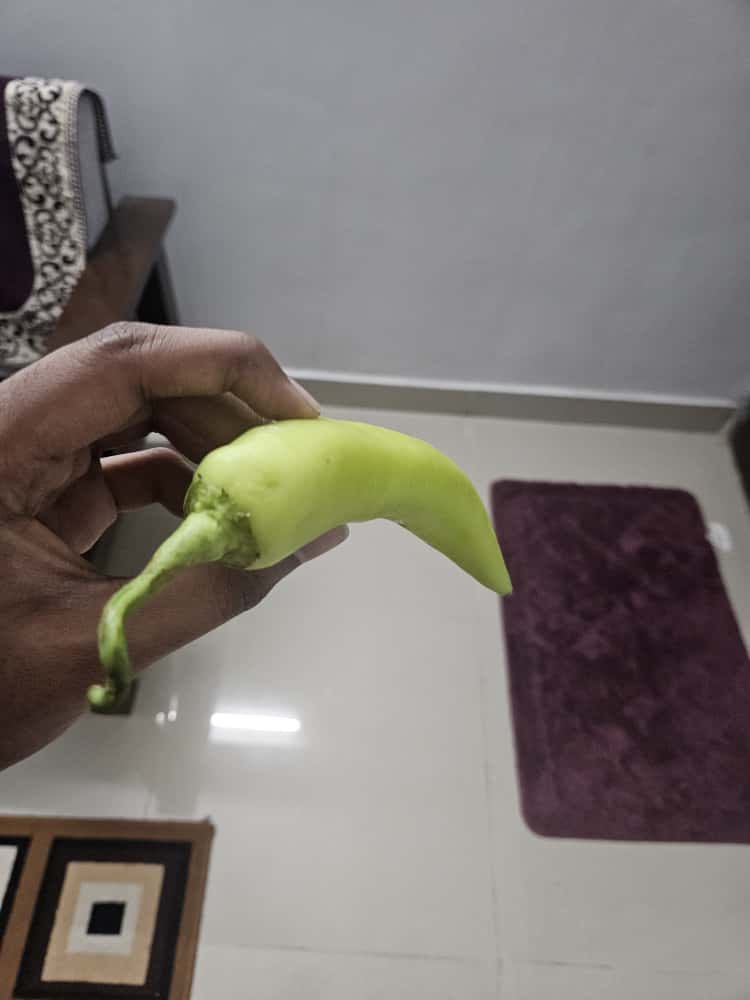wet: (50, 389, 560, 626)
